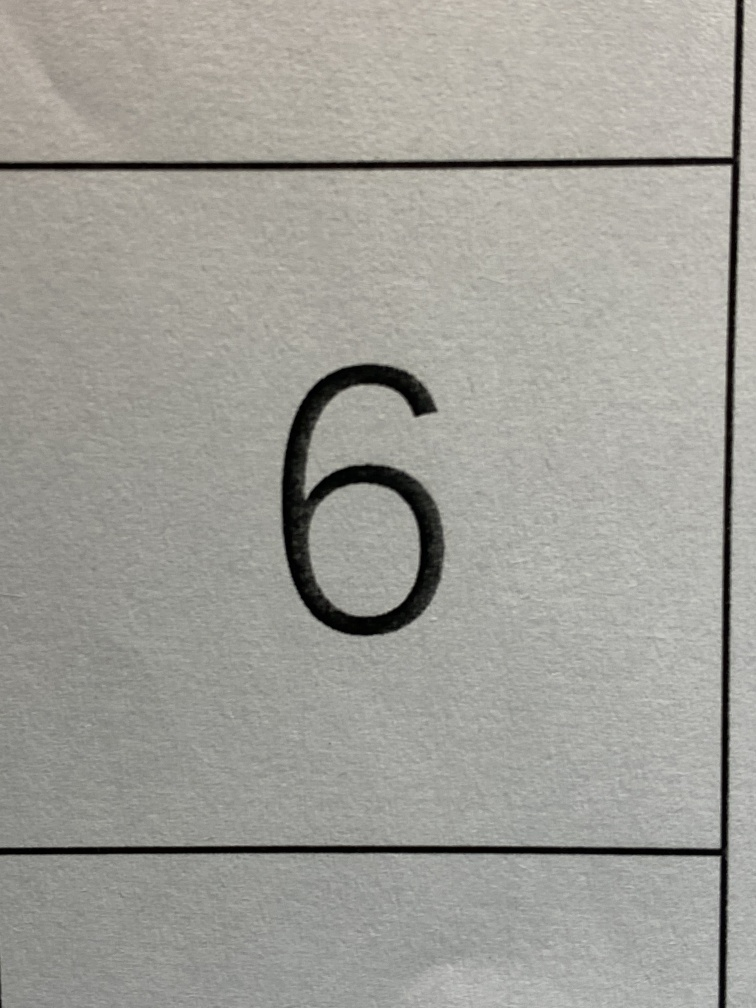six: (206, 306, 523, 699)
